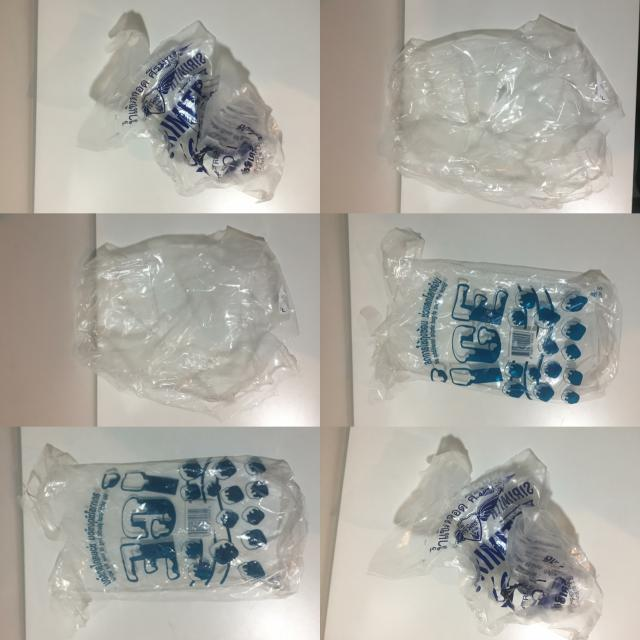Single-layer Plastic: (24, 444, 308, 626), (380, 16, 624, 209), (368, 449, 603, 640), (372, 228, 622, 404), (76, 228, 298, 419), (78, 21, 284, 201)
